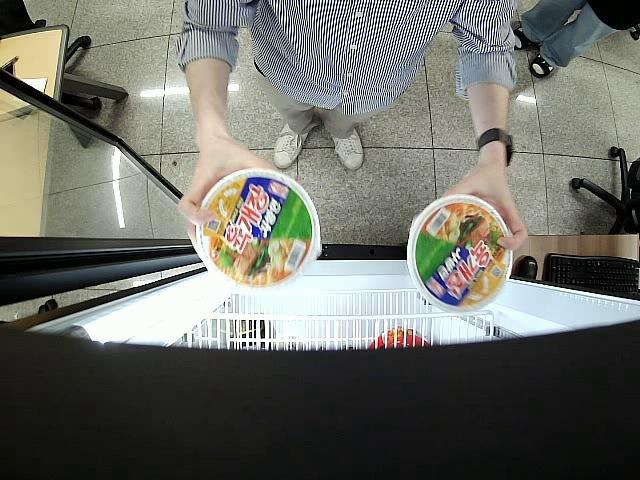00_hand: (177, 146, 283, 265), (438, 176, 529, 250)
09_yukGaeJang: (193, 170, 320, 293), (408, 195, 515, 311)
